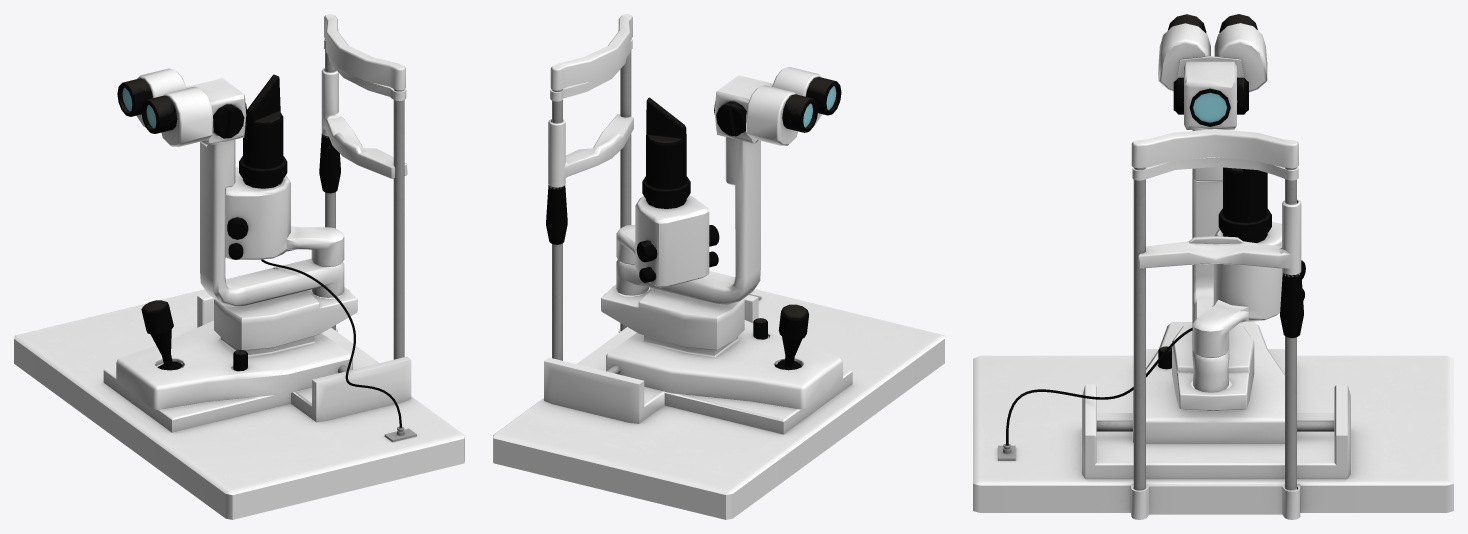
The model's file is optician_tool_-_slit_lamp.glb.
3 renders of one model, left to right at view 1: azimuth 30°, elevation 25°; view 2: azimuth 150°, elevation 25°; view 3: azimuth 270°, elevation 25°, orthographic. The views are drawn at different scales.
Visible parts, largest first — view 1: Object_3; view 2: Object_3; view 3: Object_3.
Boxes of the visible parts, x1=… form: Object_3: x1=14, y1=14, x2=464, y2=519; Object_3: x1=493, y1=14, x2=944, y2=519; Object_3: x1=973, y1=14, x2=1453, y2=519.
Bounding box in the file's own units: 51.58 × 66.79 × 76.23.
1 material, 1 textured.
